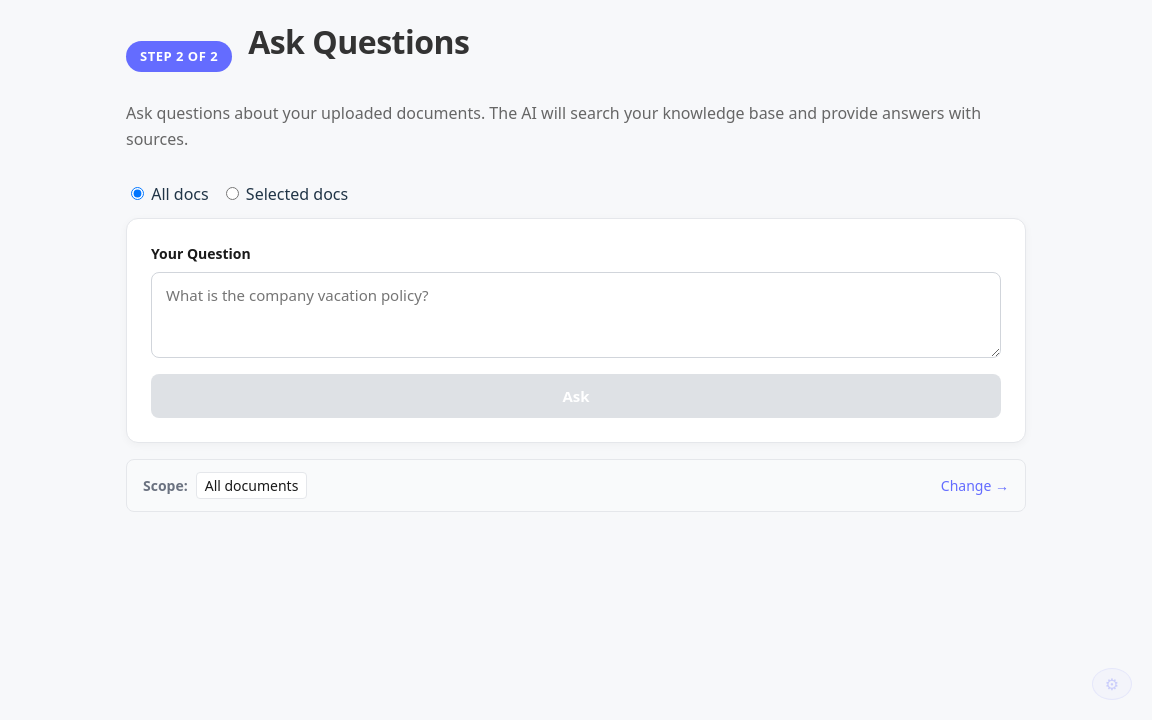
it: Query SSE behavior › dev flags canonical refusal text when refused=false
The image size is (1152, 720).
Type "Check canonical refusal" into the text box with placeholder "What is the company vacation policy?" at x=576, y=315, box left=151, top=272, right=1001, bottom=358
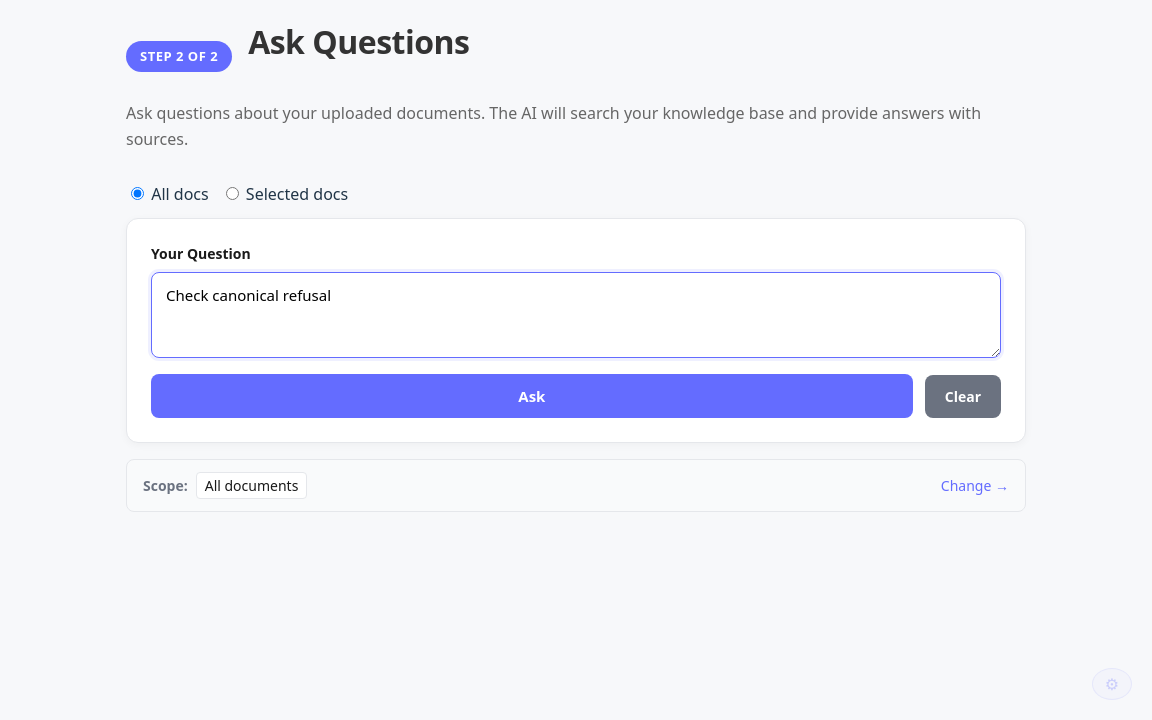
Click the button "Ask" at x=532, y=396, box left=151, top=374, right=913, bottom=418
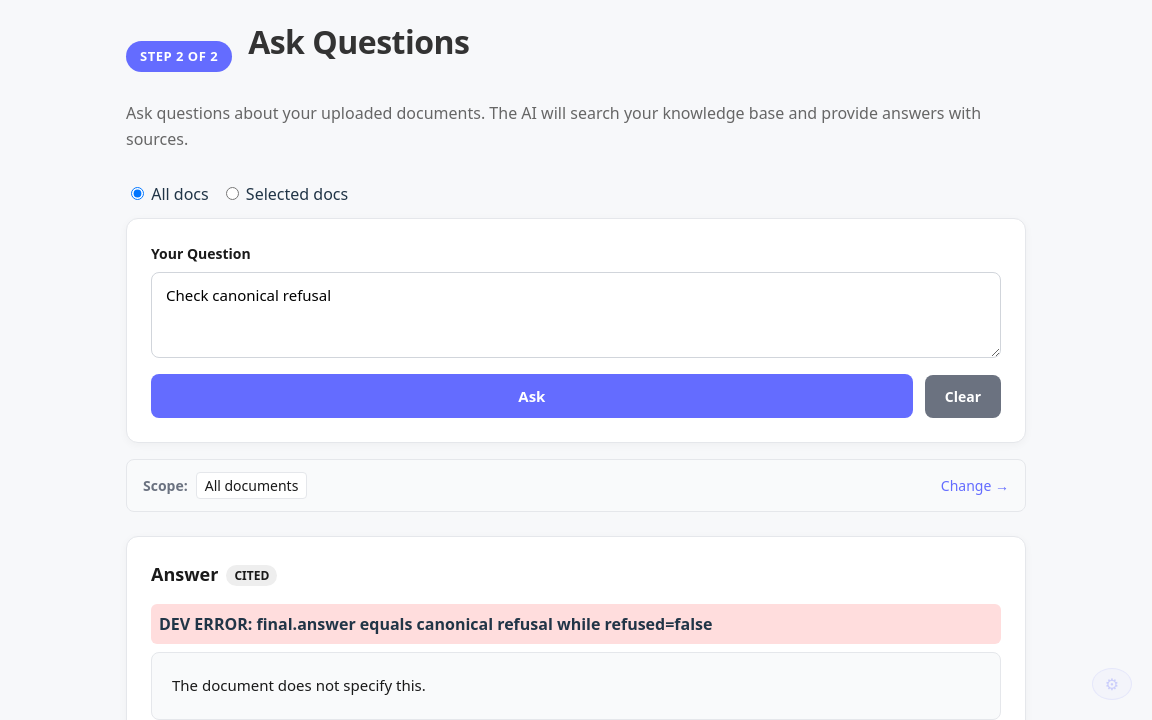
Result: the text "DEV ERROR: final.answer equals canonical refusal while refused=false" is shown at left=159, top=613, right=712, bottom=635
